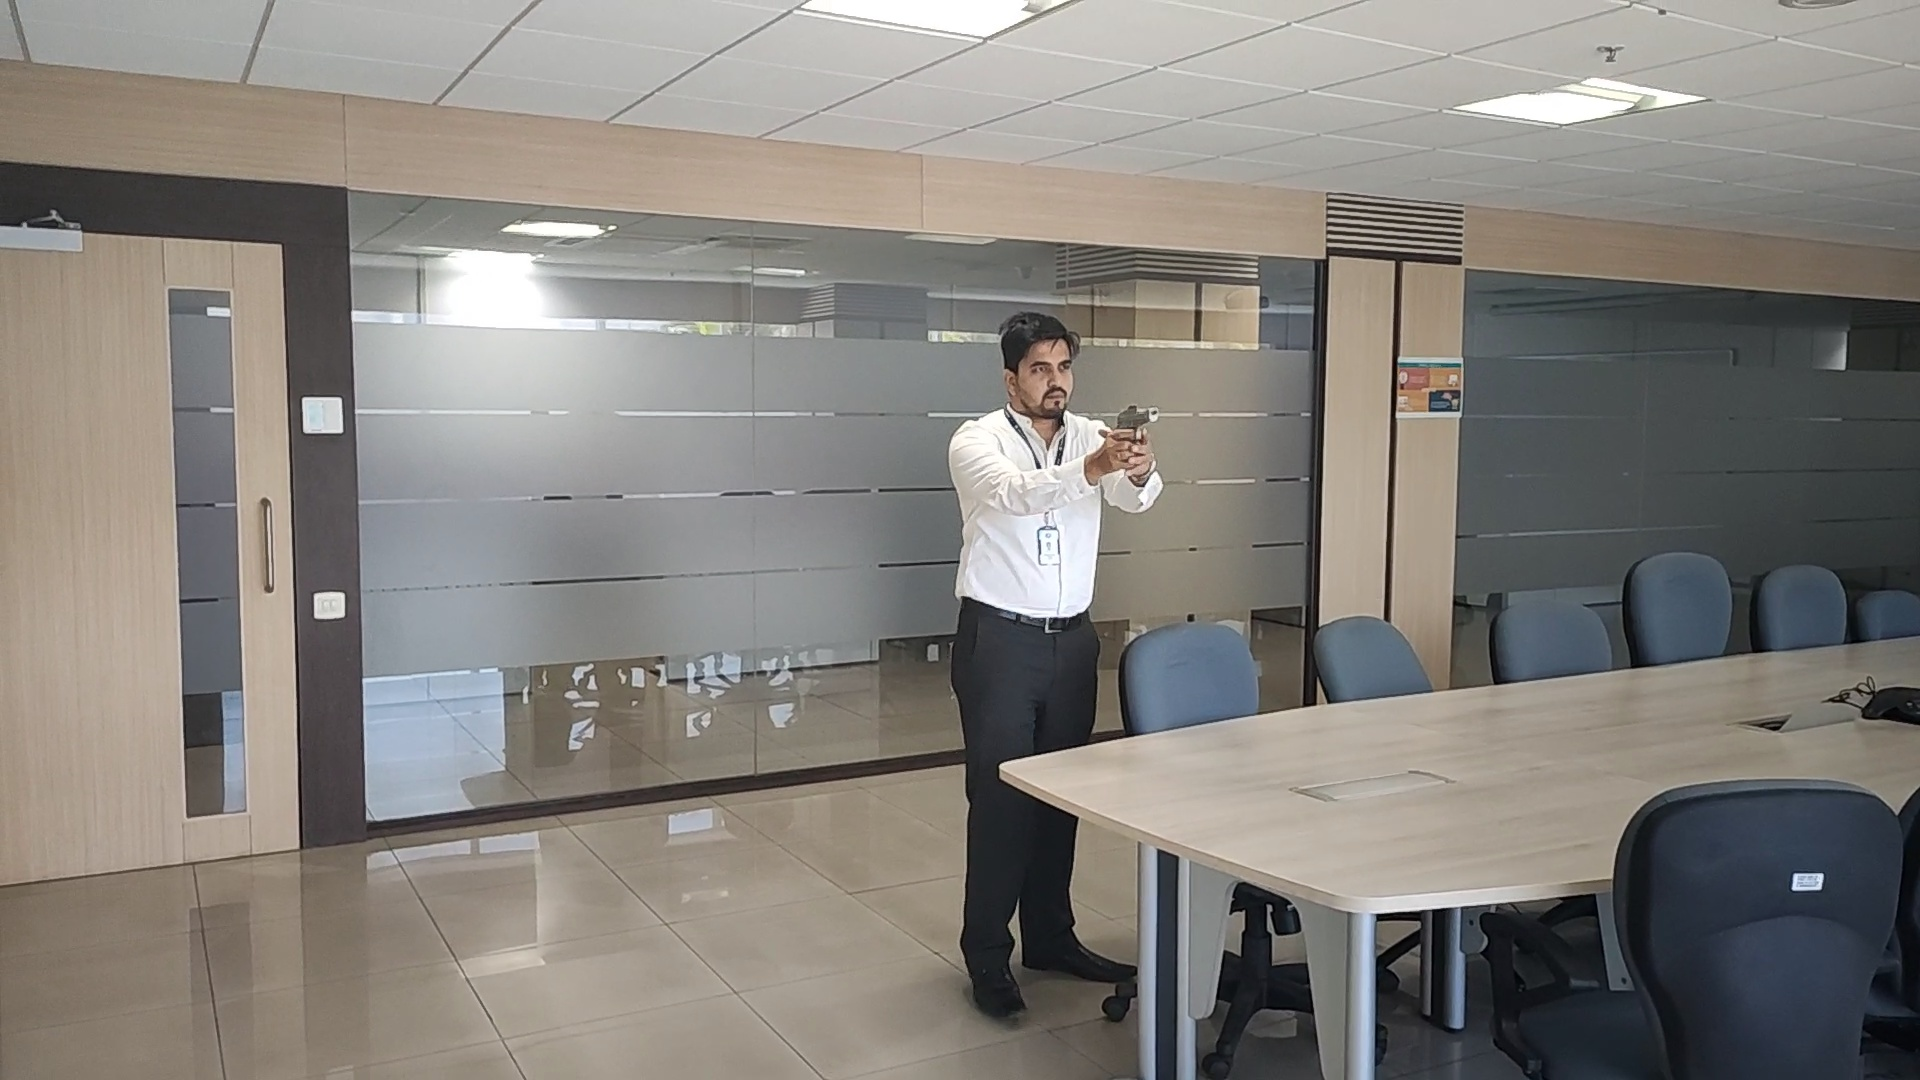gun: (1116, 404, 1160, 439)
